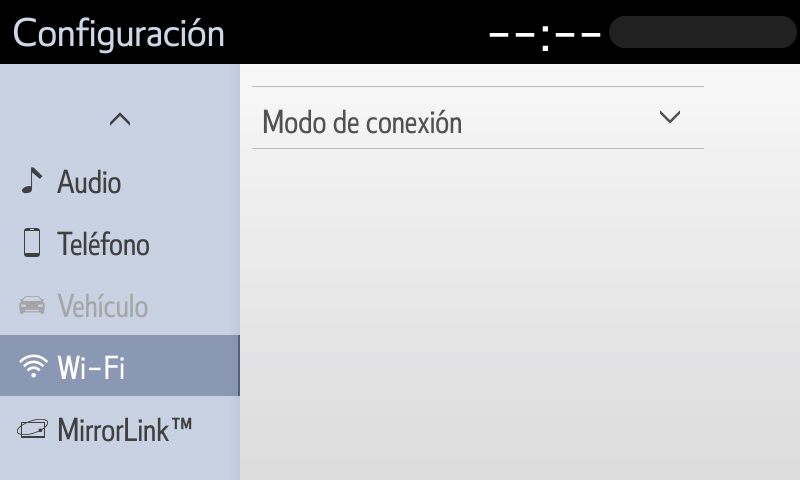touchPart: (251, 83, 707, 152), (17, 408, 194, 447), (14, 221, 154, 267), (12, 159, 132, 201), (106, 108, 131, 130)
untouchPart: (1, 333, 245, 402), (467, 9, 799, 56), (11, 13, 234, 57), (13, 287, 155, 322)
